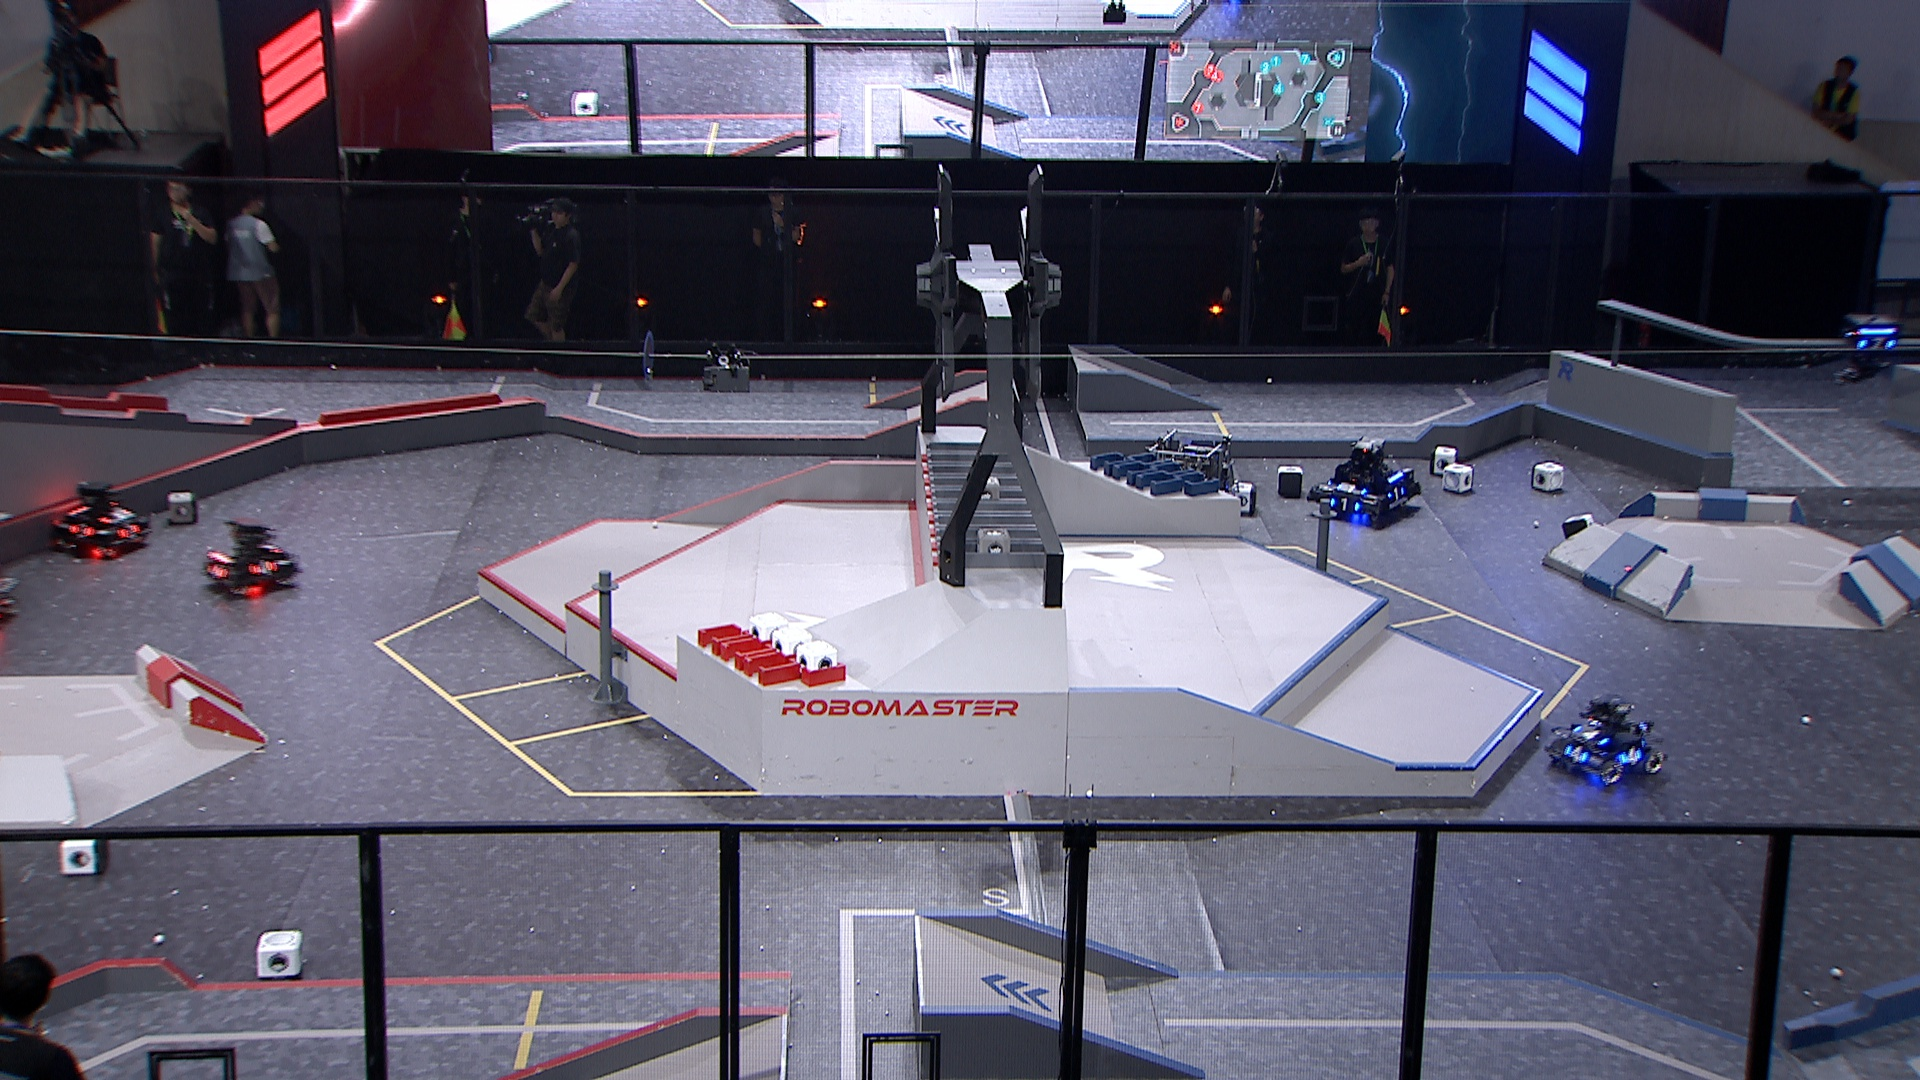armor: (98, 504, 127, 527), (1576, 727, 1610, 746), (1858, 338, 1898, 353), (1331, 495, 1362, 514), (1565, 744, 1590, 765), (1338, 483, 1371, 498), (1621, 746, 1642, 766), (1387, 484, 1408, 502), (116, 524, 138, 541), (71, 517, 90, 537), (251, 559, 273, 575), (204, 564, 225, 579), (261, 541, 282, 553)
car: (1545, 688, 1667, 785), (1305, 434, 1424, 524), (1139, 431, 1242, 526), (50, 477, 153, 560), (199, 514, 299, 597)
watcher: (1833, 309, 1911, 389)
